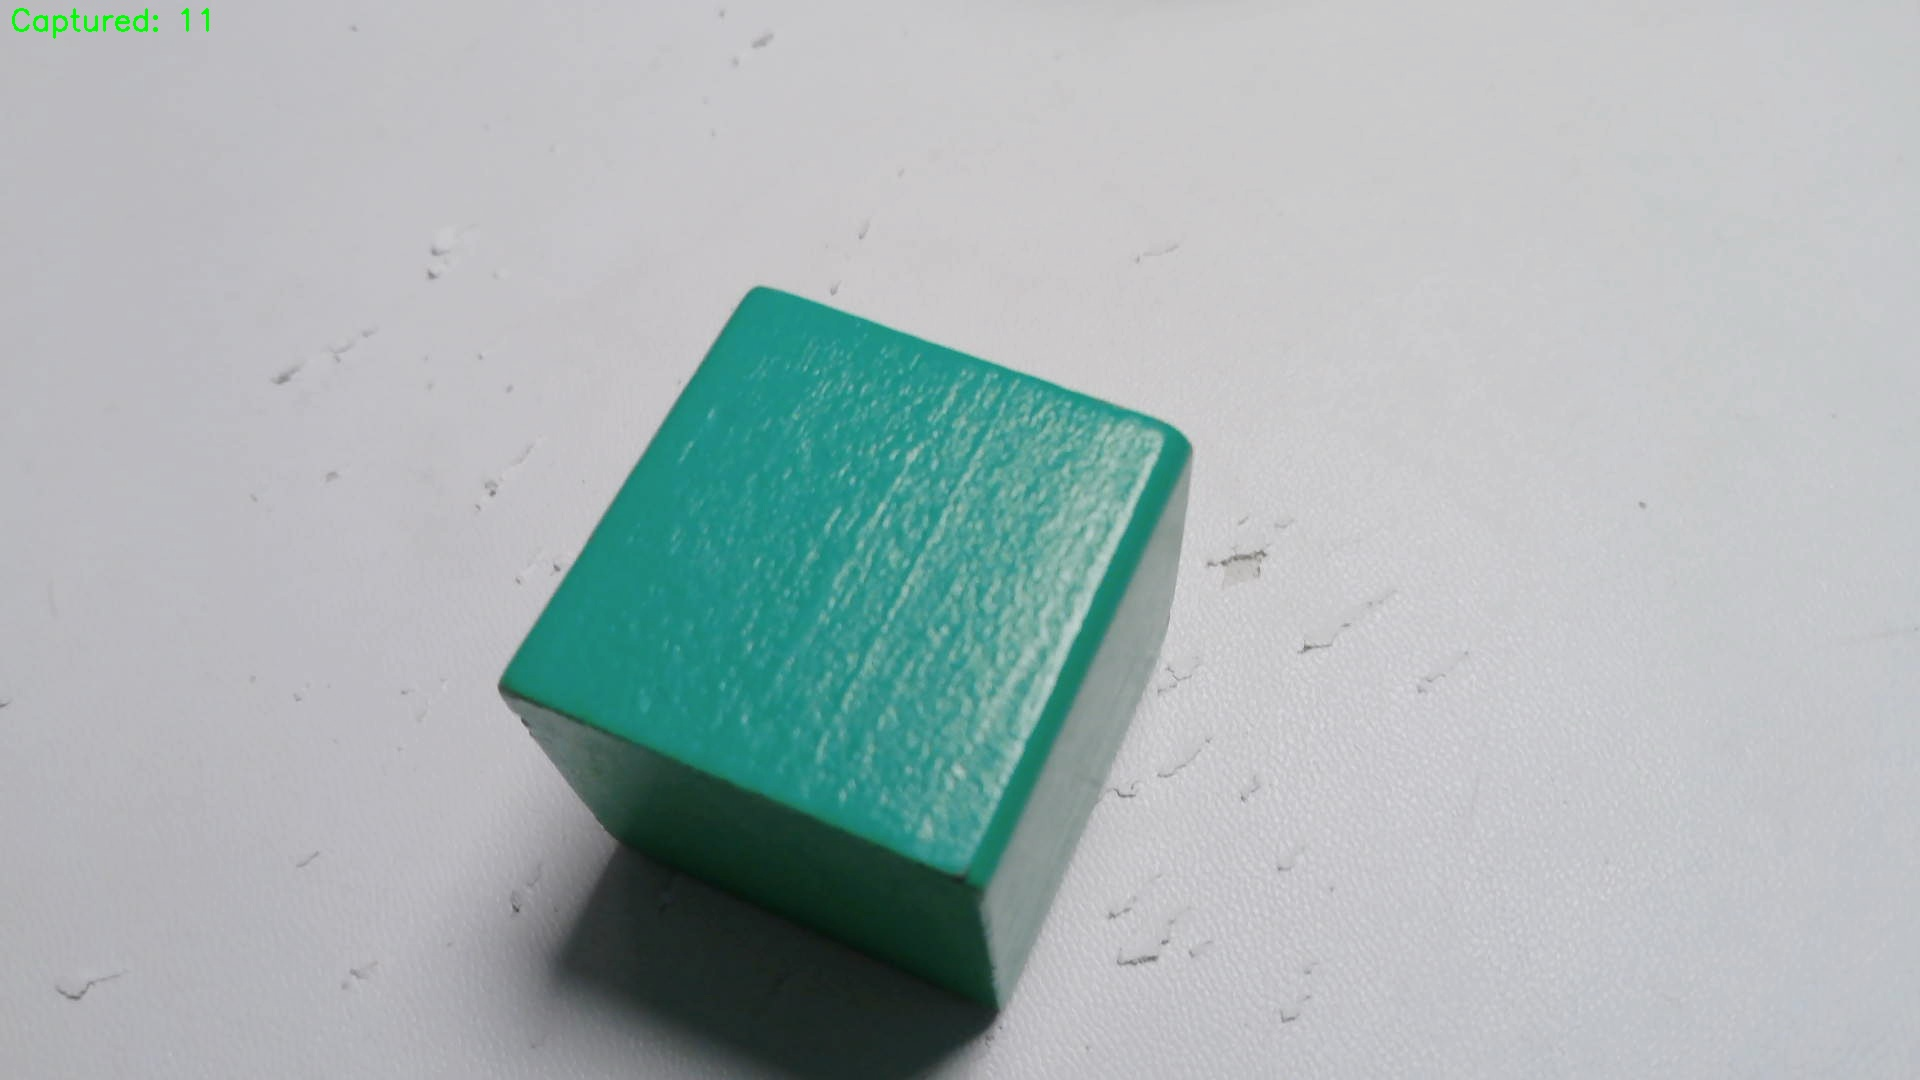green: (504, 280, 1197, 1015)
